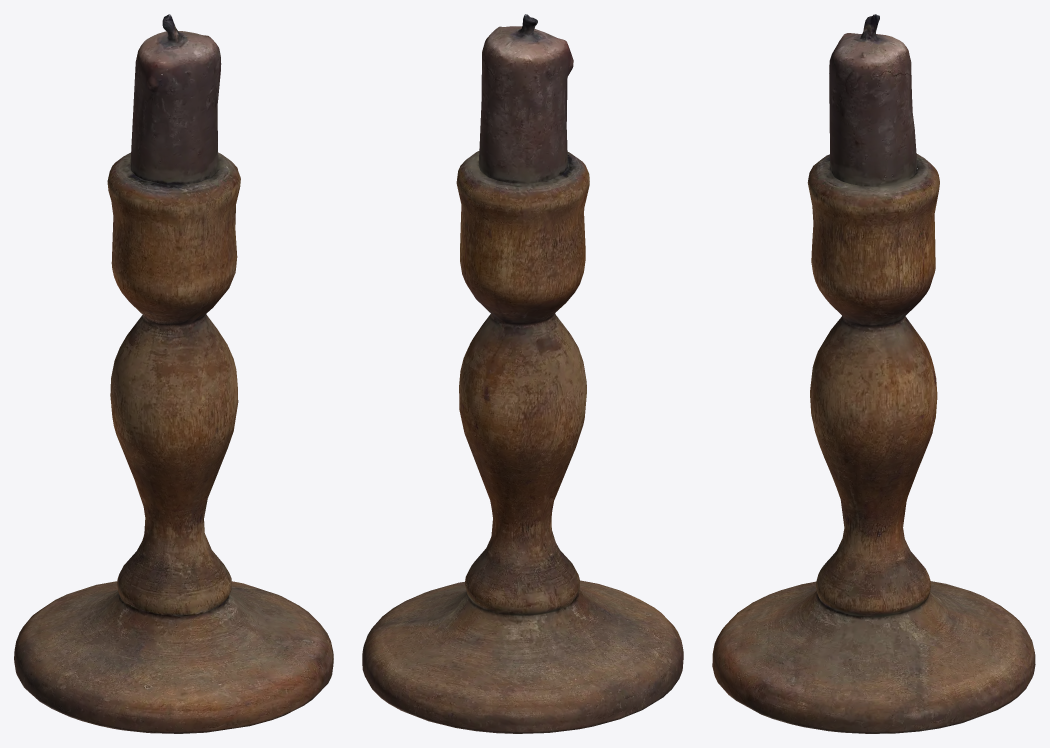
Rendered from wooden_candlestick.light.glb.
The picture shows the model from 3 angles, left to right: view 1: azimuth 30°, elevation 25°; view 2: azimuth 150°, elevation 25°; view 3: azimuth 270°, elevation 25°; orthographic projection.
Visible parts, largest first — view 1: wooden_candlestick; view 2: wooden_candlestick; view 3: wooden_candlestick.
Part boxes in pixels (x1,y1,x2,y2): wooden_candlestick: (14, 14, 333, 733); wooden_candlestick: (362, 14, 683, 733); wooden_candlestick: (712, 14, 1035, 733).
Bounding box in the file's own units: 1.97 × 4.45 × 2.
Materials: 1 (1 with a texture image).
